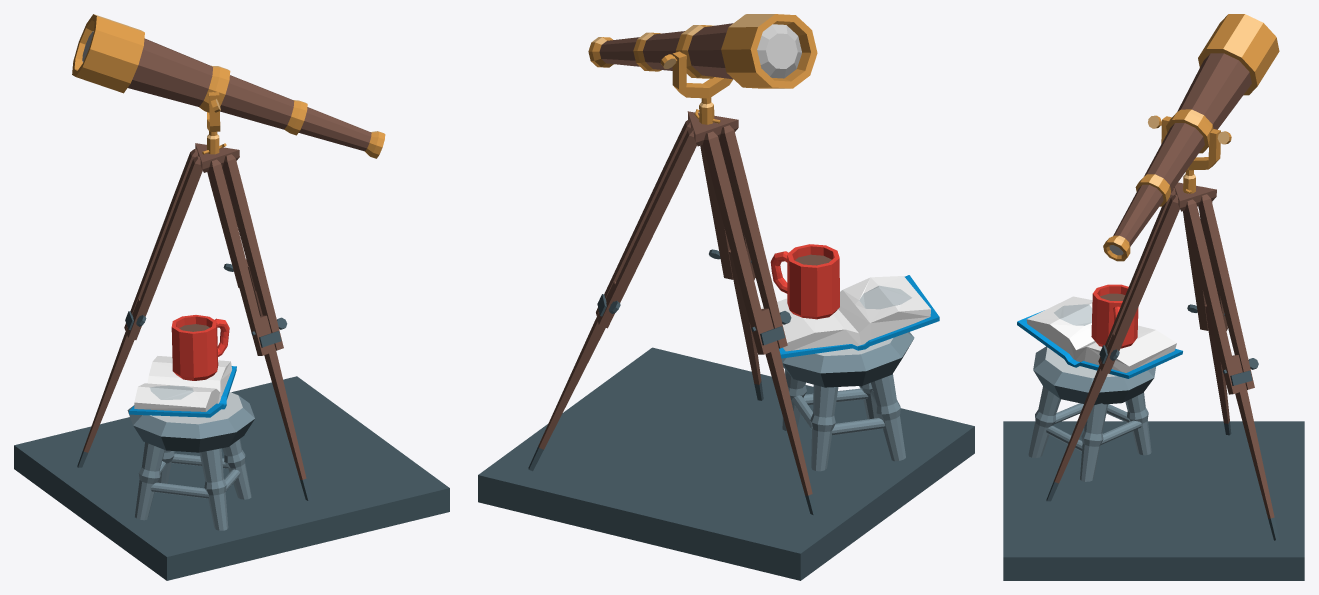
The picture shows the model from 3 angles, left to right: view 1: azimuth 30°, elevation 25°; view 2: azimuth 150°, elevation 25°; view 3: azimuth 270°, elevation 25°; orthographic projection. The views are drawn at different scales.
Parts seen in each view (by area): view 1: mesh_756371822, group_64228703, group_135009730; view 2: mesh_756371822, group_64228703, group_135009730; view 3: mesh_756371822, group_64228703, group_135009730.
Part boxes in pixels (x1,y1,x2,y2): mesh_756371822: [14, 376, 449, 580]; group_64228703: [72, 14, 385, 500]; group_135009730: [127, 315, 254, 530]; mesh_756371822: [478, 347, 974, 580]; group_64228703: [528, 14, 817, 515]; group_135009730: [761, 244, 939, 471]; mesh_756371822: [1003, 421, 1304, 580]; group_64228703: [1046, 14, 1279, 540]; group_135009730: [1017, 284, 1182, 481].
Size of the model in its own units: 126 by 194 by 116.
